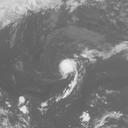cyclone: (59, 58, 79, 79)
